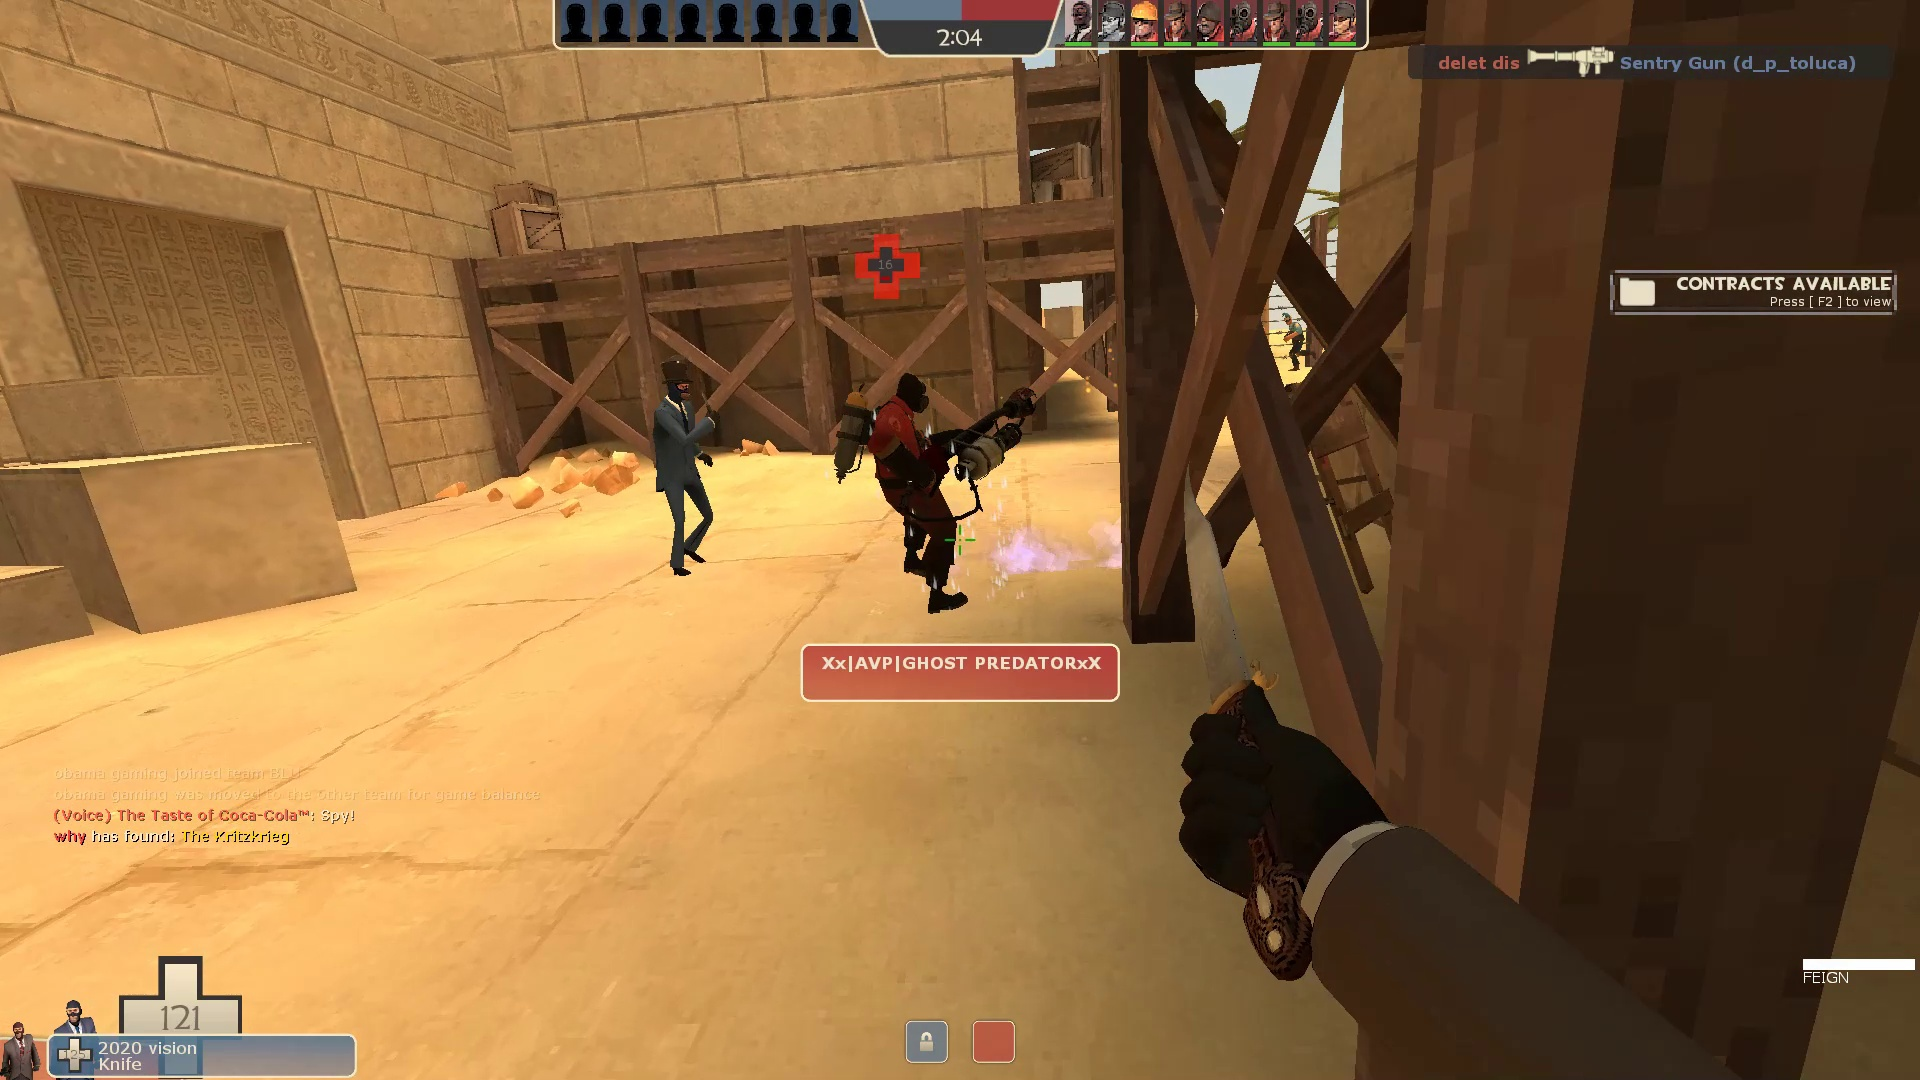blu_spy: (644, 351, 733, 583)
red_pyro: (833, 361, 1054, 625)
